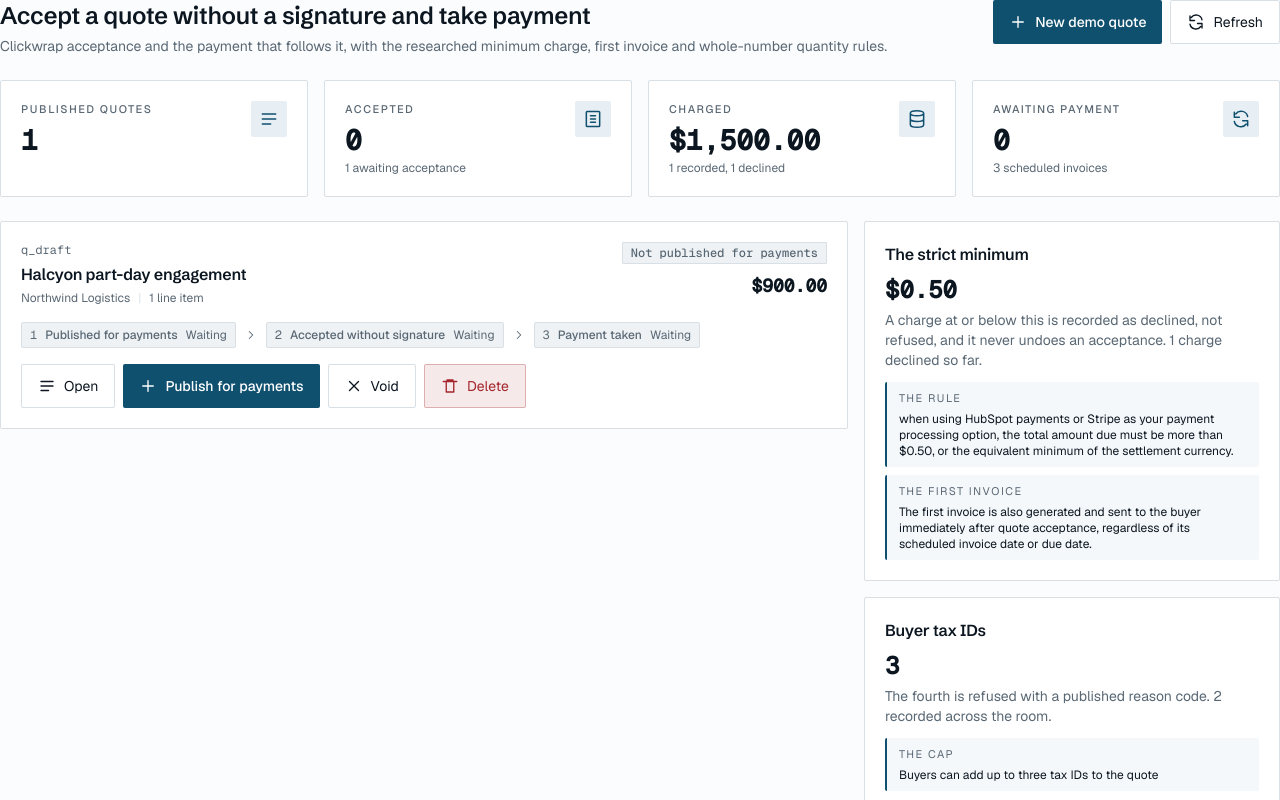
Test case: the page › defaults the publish dialog to Accept without signature, this workflow own method
expect the heading "Halcyon part-day engagement" is shown: met, box [21, 262, 246, 286]
Click the button "Publish for payments" at (222, 386), box [123, 364, 320, 408]
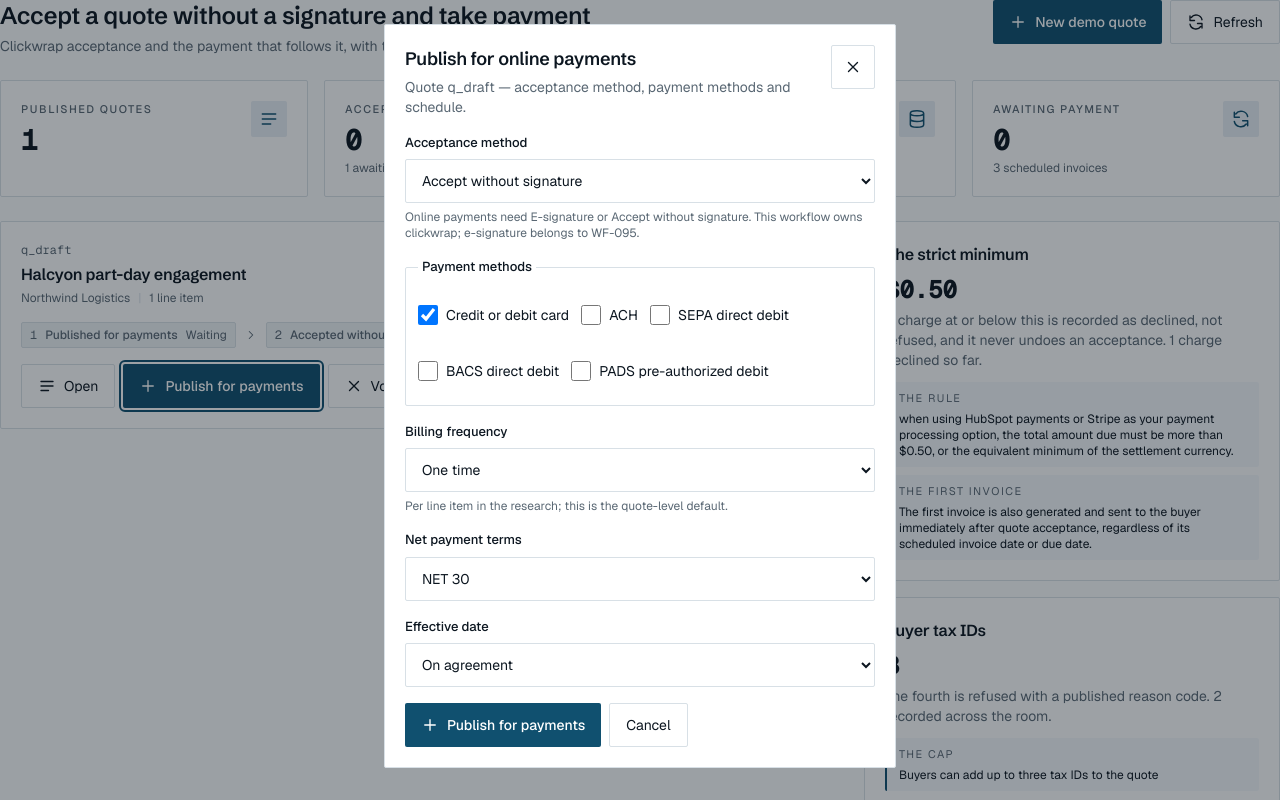
expect the dropdown labelled "Acceptance method" shows "Accept without signature": met, box [405, 159, 875, 203]
expect the text "belongs to WF-095" is shown: met, box [405, 209, 862, 241]
